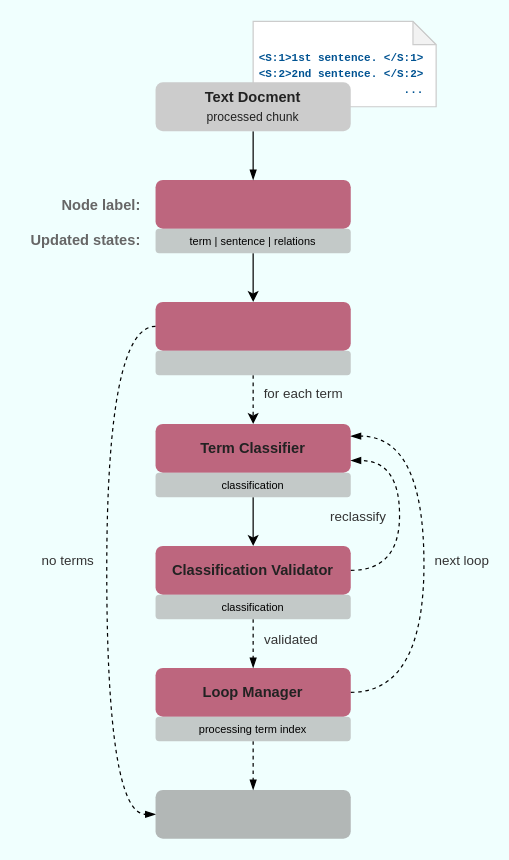
Image size: 509x860. Some labels were removed from this diagram. The centre of each missing label's shape, as x and y in pixels:
"__END__ next document" belongs at [252,813].
"Citation Verifier" belongs at [252,325].
"term" belongs at [252,362].
"Term Extractor & Sentence Citer" belongs at [252,203].
